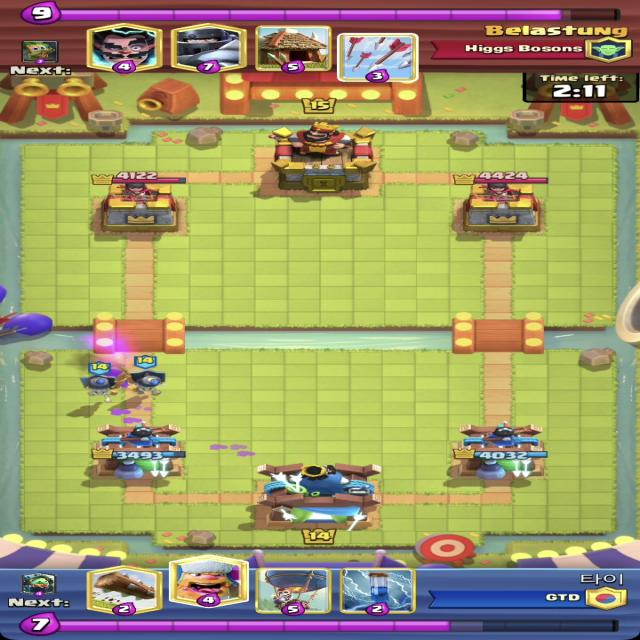Player-Guard: (78, 360, 129, 403), (120, 354, 168, 396)
